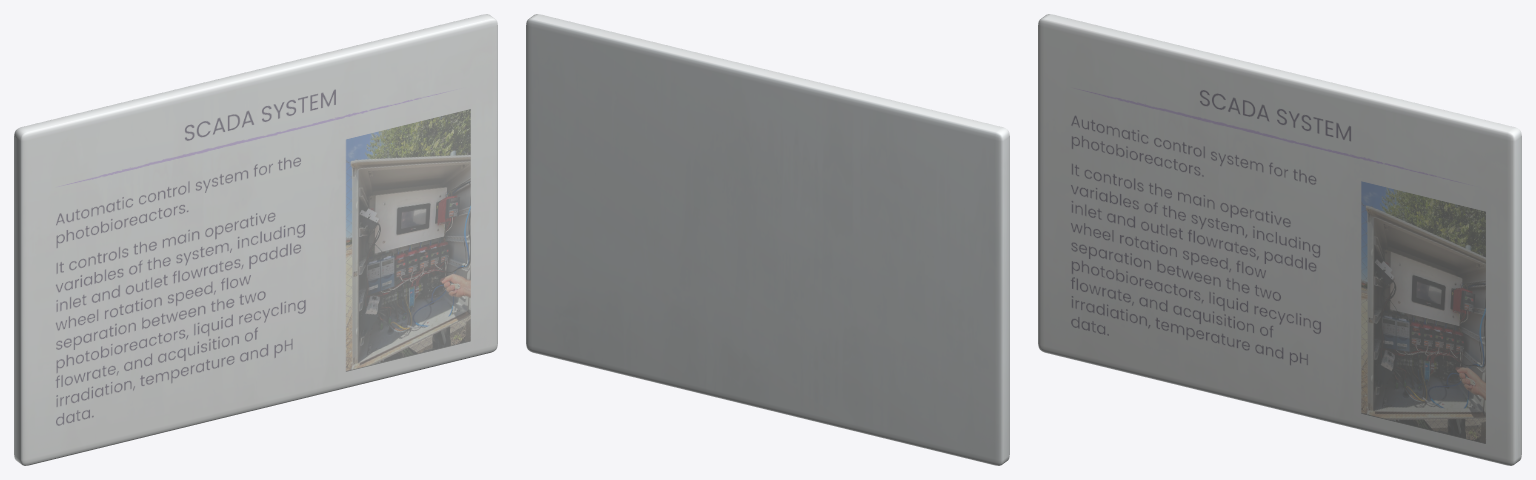
The model's file is Cartel_SCADA.glb.
The picture shows the model from 3 angles, left to right: view 1: azimuth 30°, elevation 25°; view 2: azimuth 150°, elevation 25°; view 3: azimuth 330°, elevation 25°; orthographic projection.
Visible parts, largest first — view 1: Box011; view 2: Box011; view 3: Box011.
Boxes of the visible parts, box(x1,y1,x2,y2) form: Box011: box(14, 14, 497, 465); Box011: box(526, 14, 1009, 465); Box011: box(1038, 14, 1521, 465).
Size of the model in its own units: 1.1 by 0.7335 by 0.0348.
Materials: 1 (1 with a texture image).
